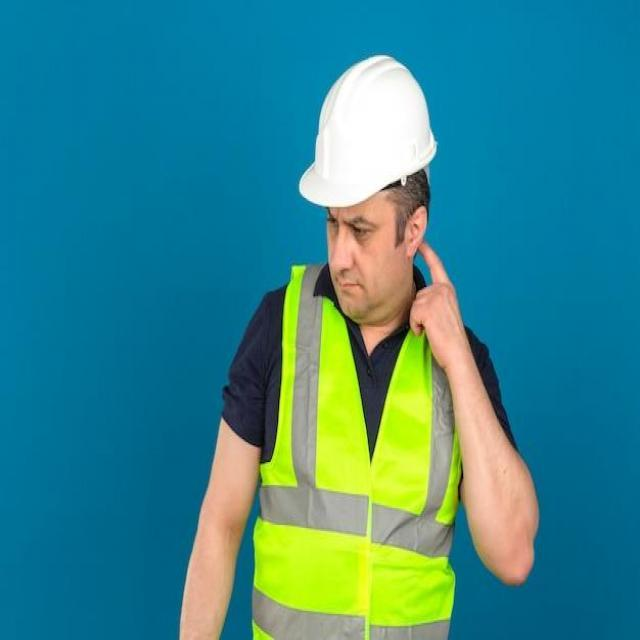reflective_jacket: (245, 268, 466, 637)
safety_helmet: (297, 51, 438, 215)
